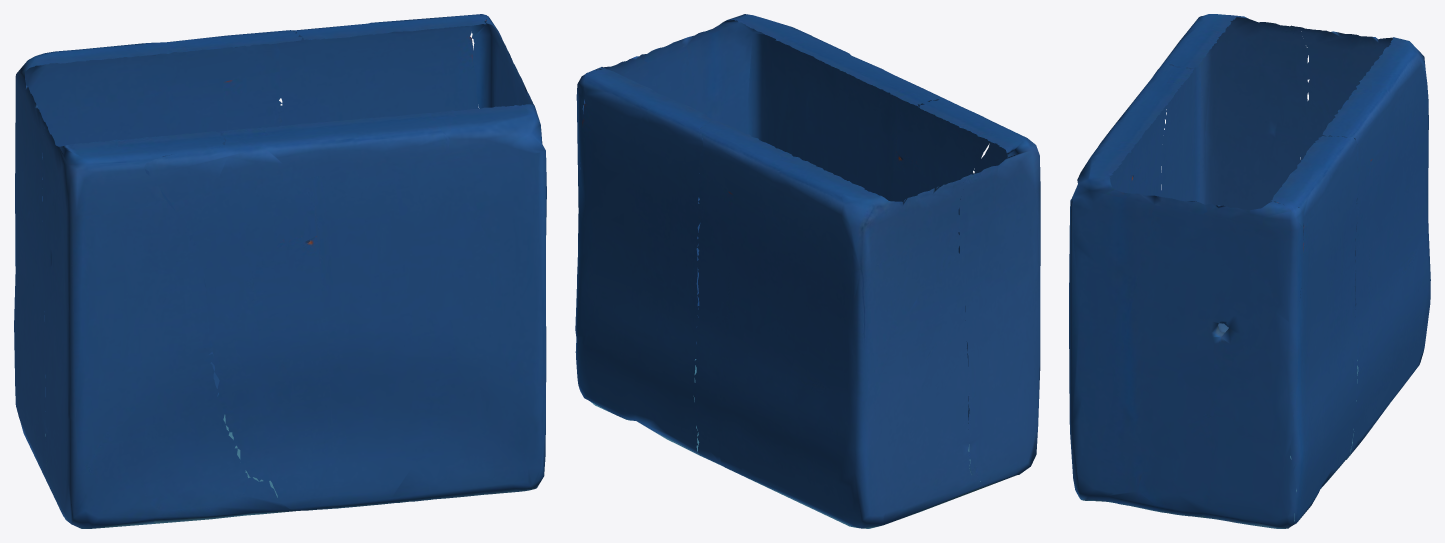
The model's file is block5_smallcube.glb.
The picture shows the model from 3 angles, left to right: view 1: azimuth 30°, elevation 25°; view 2: azimuth 150°, elevation 25°; view 3: azimuth 270°, elevation 25°; orthographic projection. The views are drawn at different scales.
Visible parts, largest first — view 1: tripo_part_5, tripo_part_7, tripo_part_6; view 2: tripo_part_6, tripo_part_7, tripo_part_5; view 3: tripo_part_5, tripo_part_7, tripo_part_6.
Boxes of the visible parts, x1=… form: tripo_part_5: x1=144, y1=14, x2=546, y2=510; tripo_part_7: x1=42, y1=14, x2=526, y2=528; tripo_part_6: x1=14, y1=30, x2=302, y2=516; tripo_part_6: x1=693, y1=120, x2=1015, y2=528; tripo_part_7: x1=575, y1=68, x2=1040, y2=481; tripo_part_5: x1=575, y1=14, x2=990, y2=376; tripo_part_5: x1=1069, y1=42, x2=1303, y2=528; tripo_part_7: x1=1085, y1=14, x2=1357, y2=528; tripo_part_6: x1=1290, y1=25, x2=1430, y2=459.
Bounding box in the file's own units: 0.2979 × 0.2243 × 0.2255.
3 materials, 3 textured.
